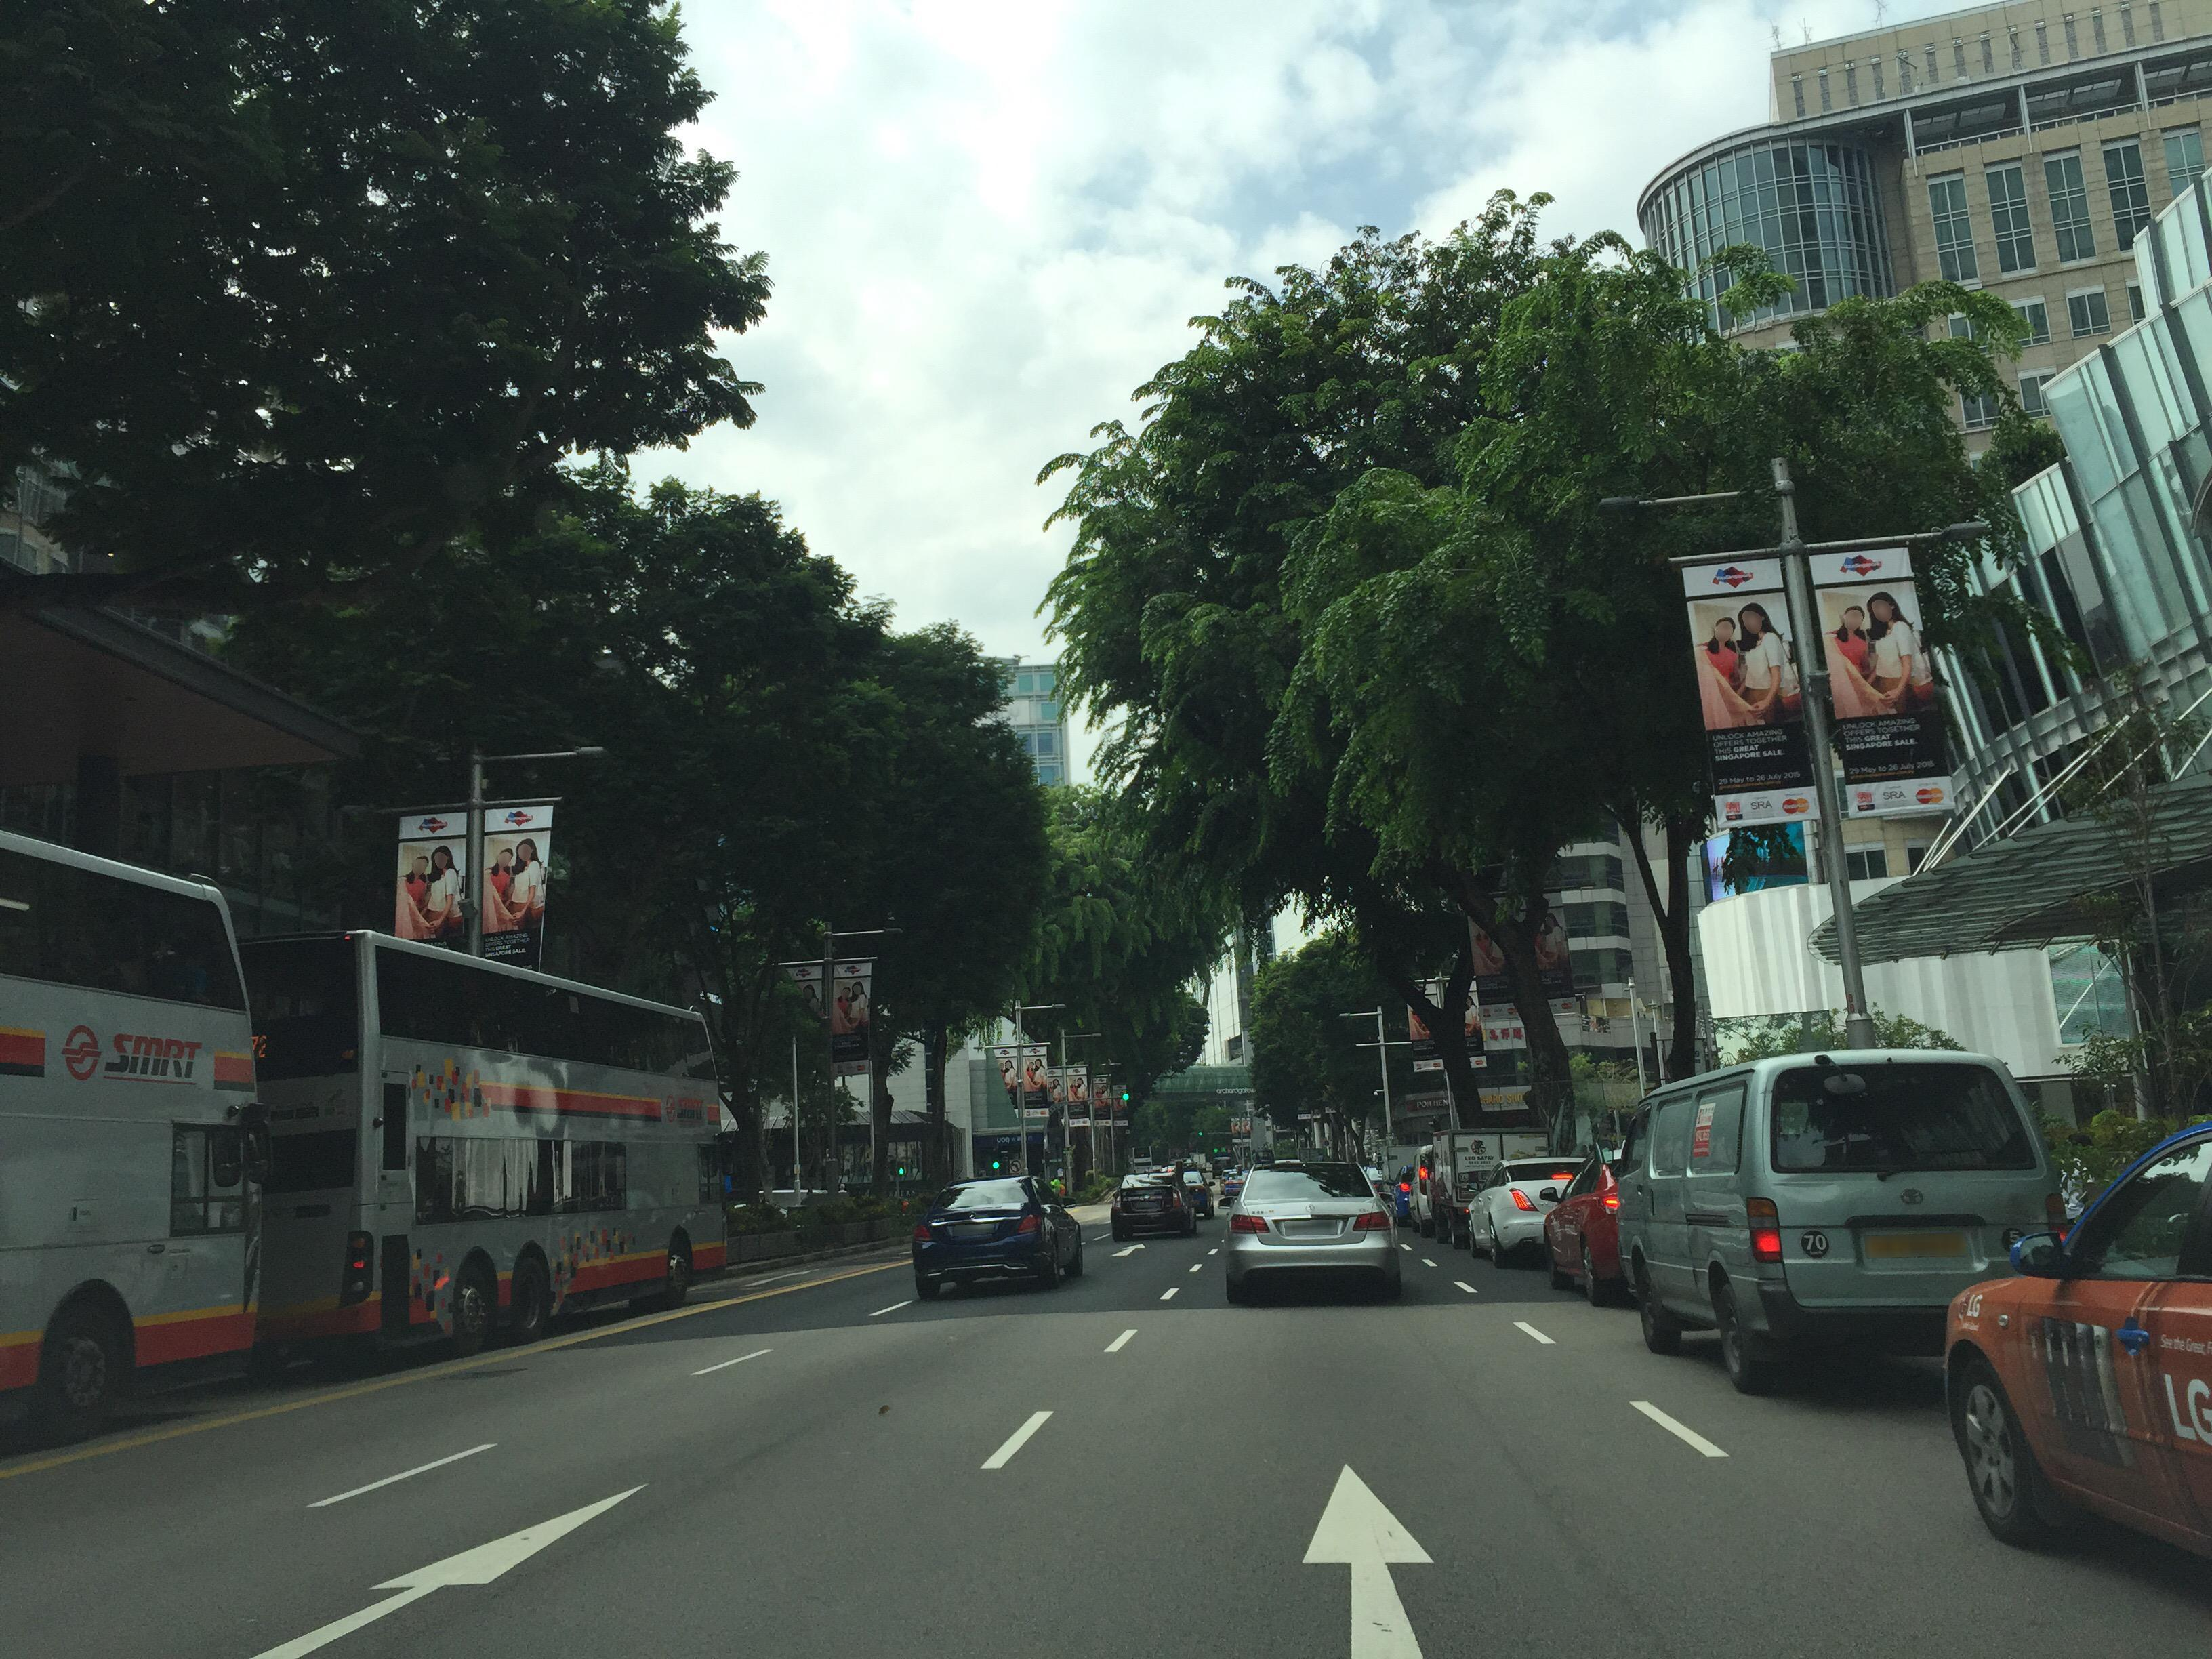vinyl banner: (1808, 530, 1980, 857), (1665, 537, 1820, 856), (475, 800, 578, 974), (397, 789, 486, 979)
